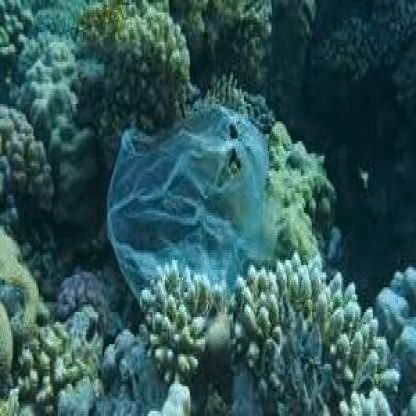pbag: (100, 94, 287, 310)
